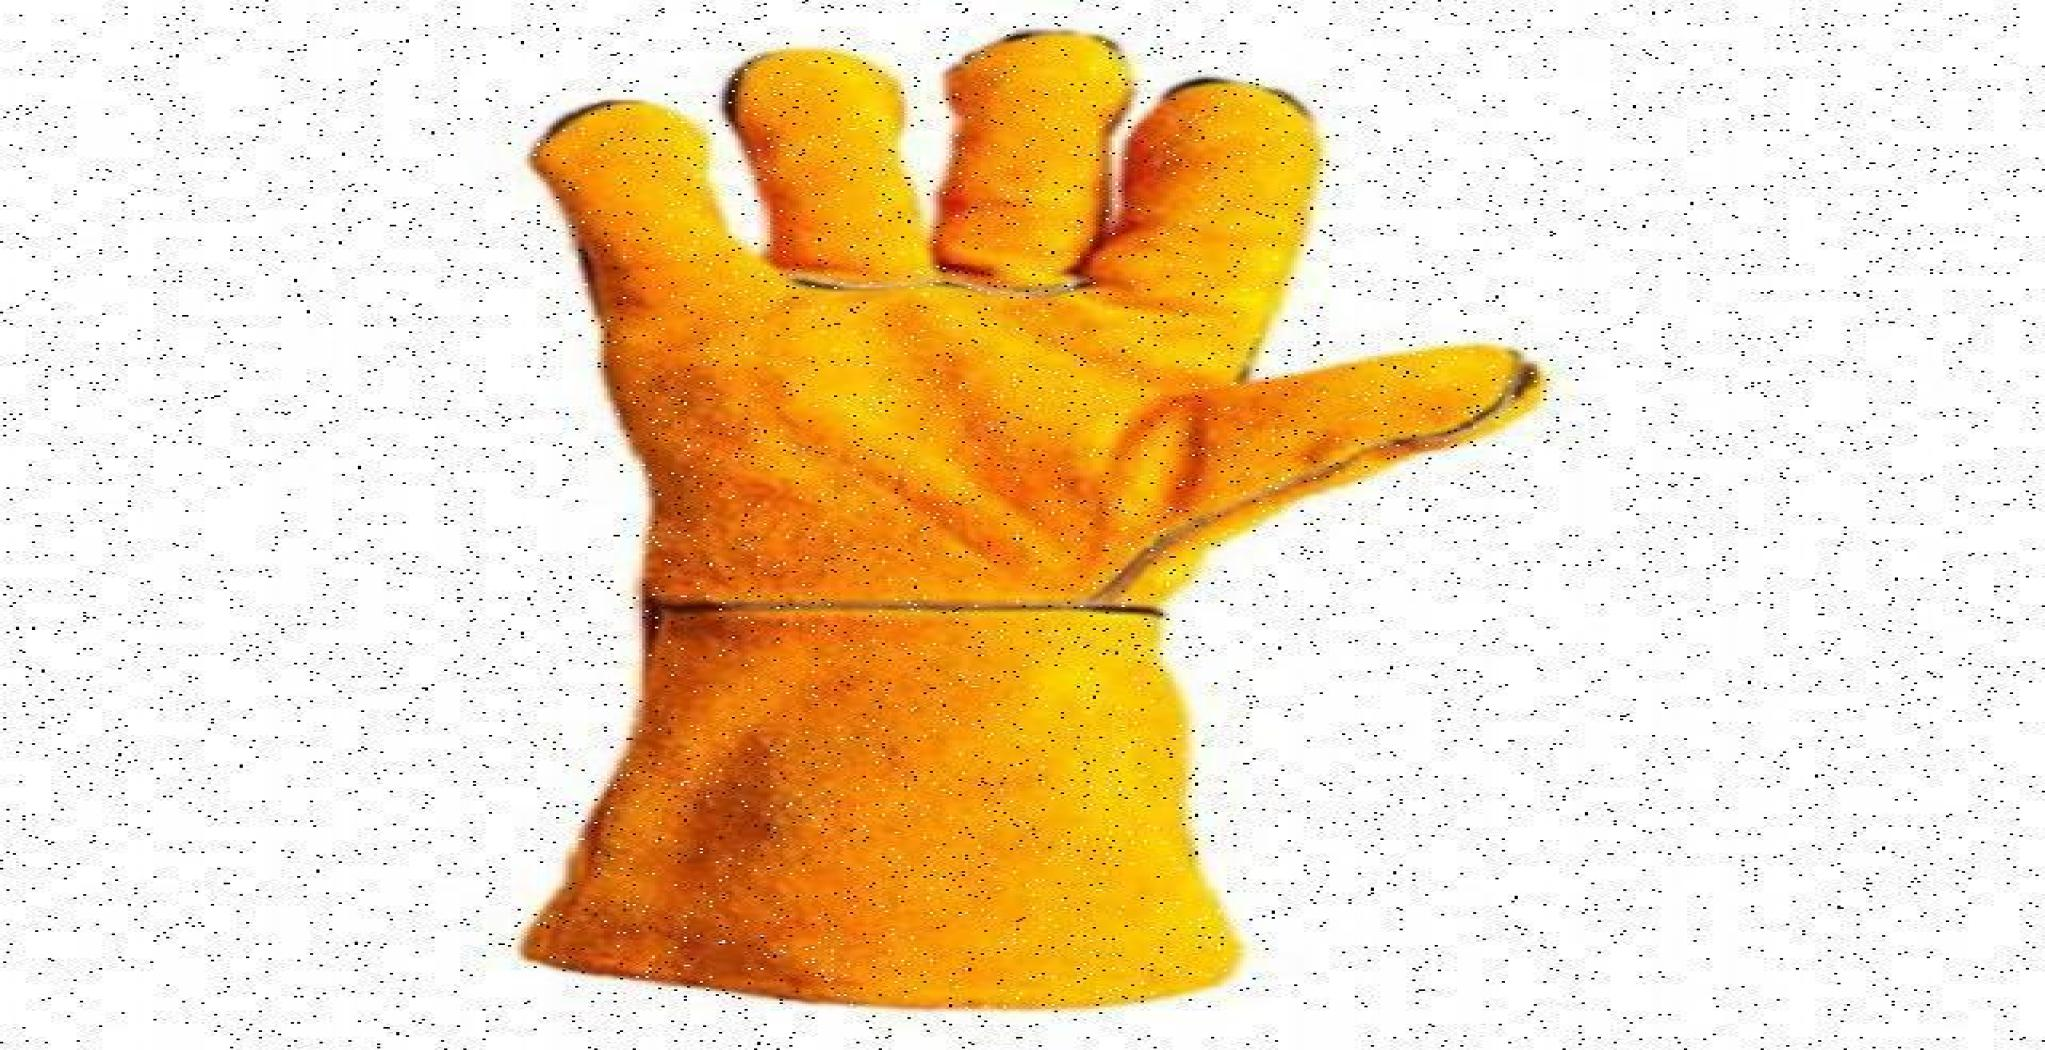gloved: (509, 27, 1547, 1011)
